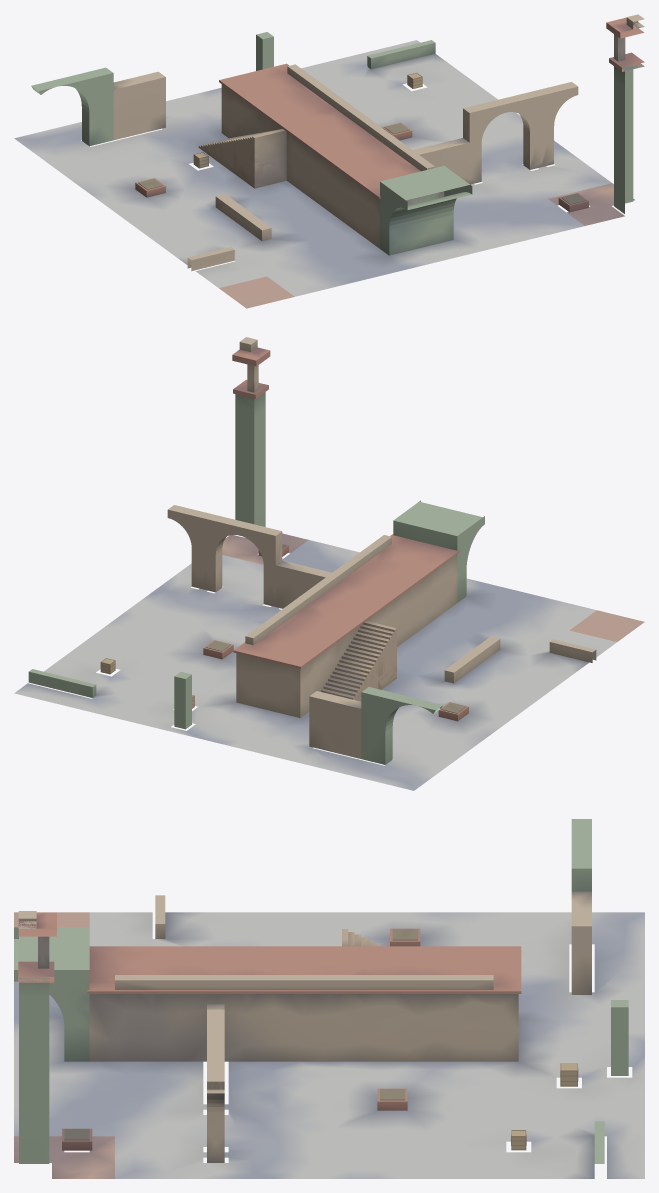
3 views of the same model, one above another, from view 1: azimuth 30°, elevation 25°; view 2: azimuth 150°, elevation 25°; view 3: azimuth 270°, elevation 25° (orthographic). The views are drawn at different scales.
Visible parts, largest first — view 1: t; view 2: t; view 3: t.
Boxes of the visible parts, x1,y1,x2,y2 form: t: (14, 14, 644, 308); t: (14, 337, 644, 790); t: (14, 819, 644, 1178).
Size of the model in its own units: 50.38 by 22.6 by 50.
